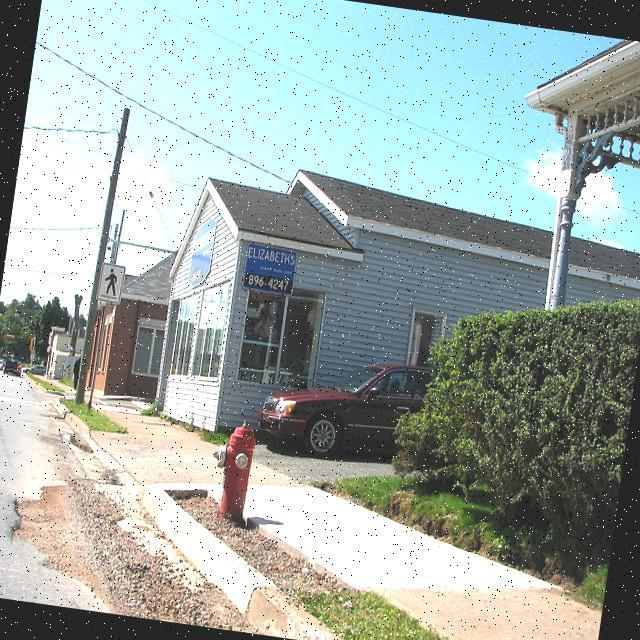fire_hydrant: (205, 415, 258, 519)
